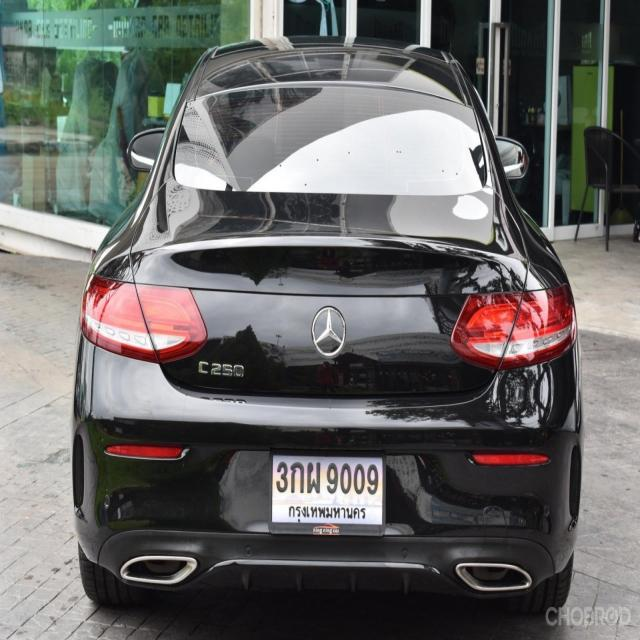license_plate: (269, 444, 388, 539)
